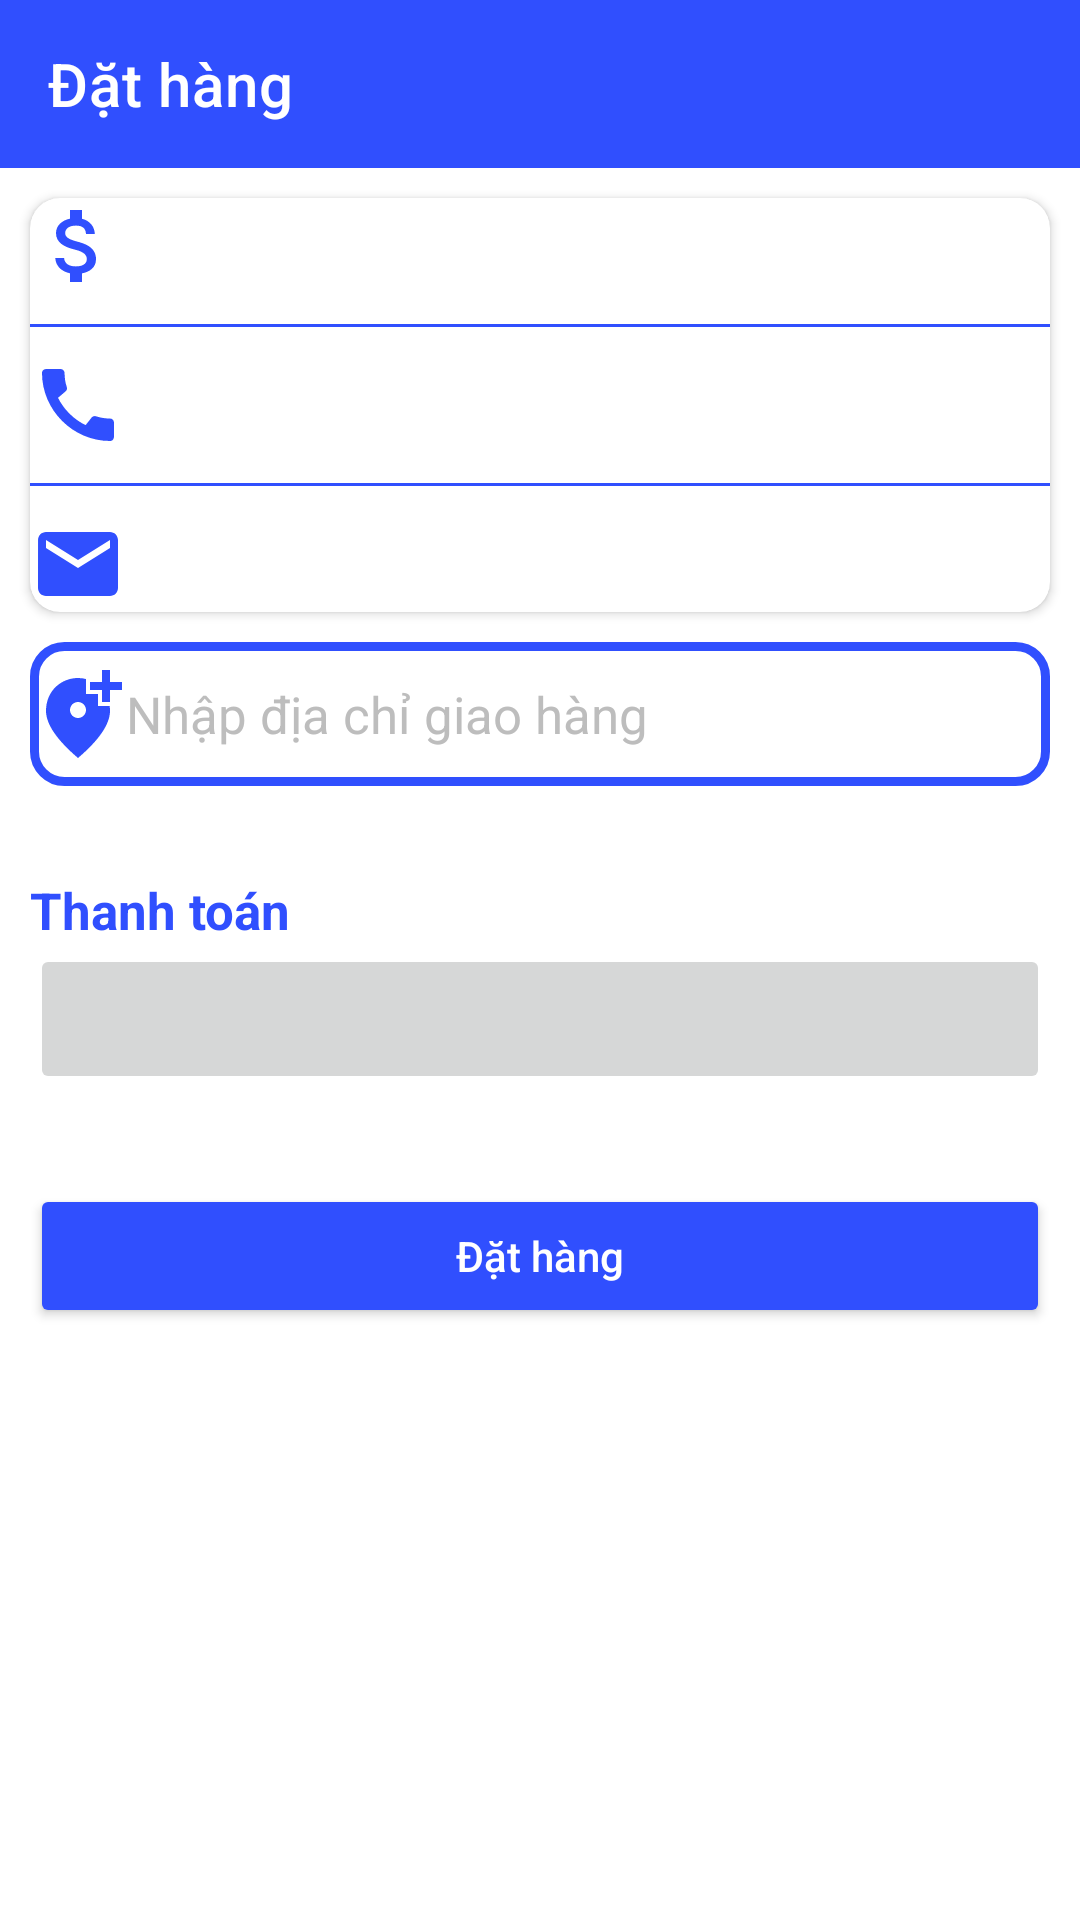

Point at icon controls on the screen. Image size 1080 × 1920, points as [x,y].
call: [78,405]
email: [78,564]
money: [65,242]
